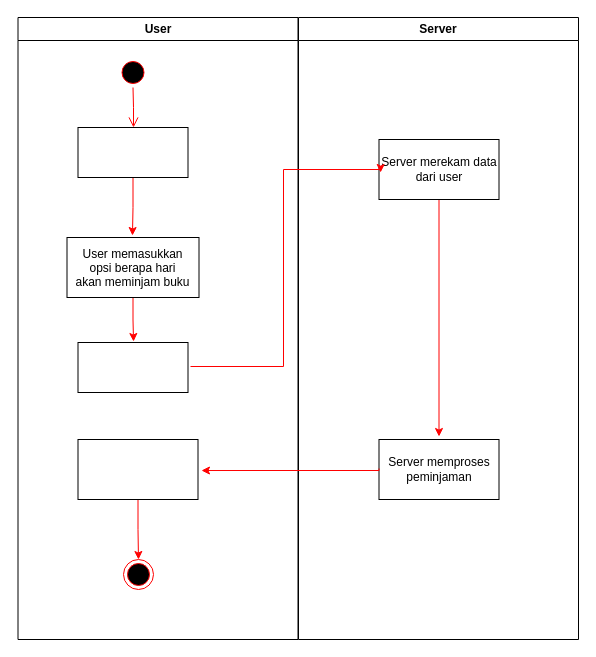
Image size: 596x657. Some labels were removed from this diagram. Each missing label, with the box of its shape:
User memilih buku yang akan dipinjam: (77, 126, 188, 178)
User mendapatkan kode, yang nantinya untuk diberikan admin perpustakaan: (77, 438, 198, 500)
User mengsubmit: (77, 342, 188, 392)
